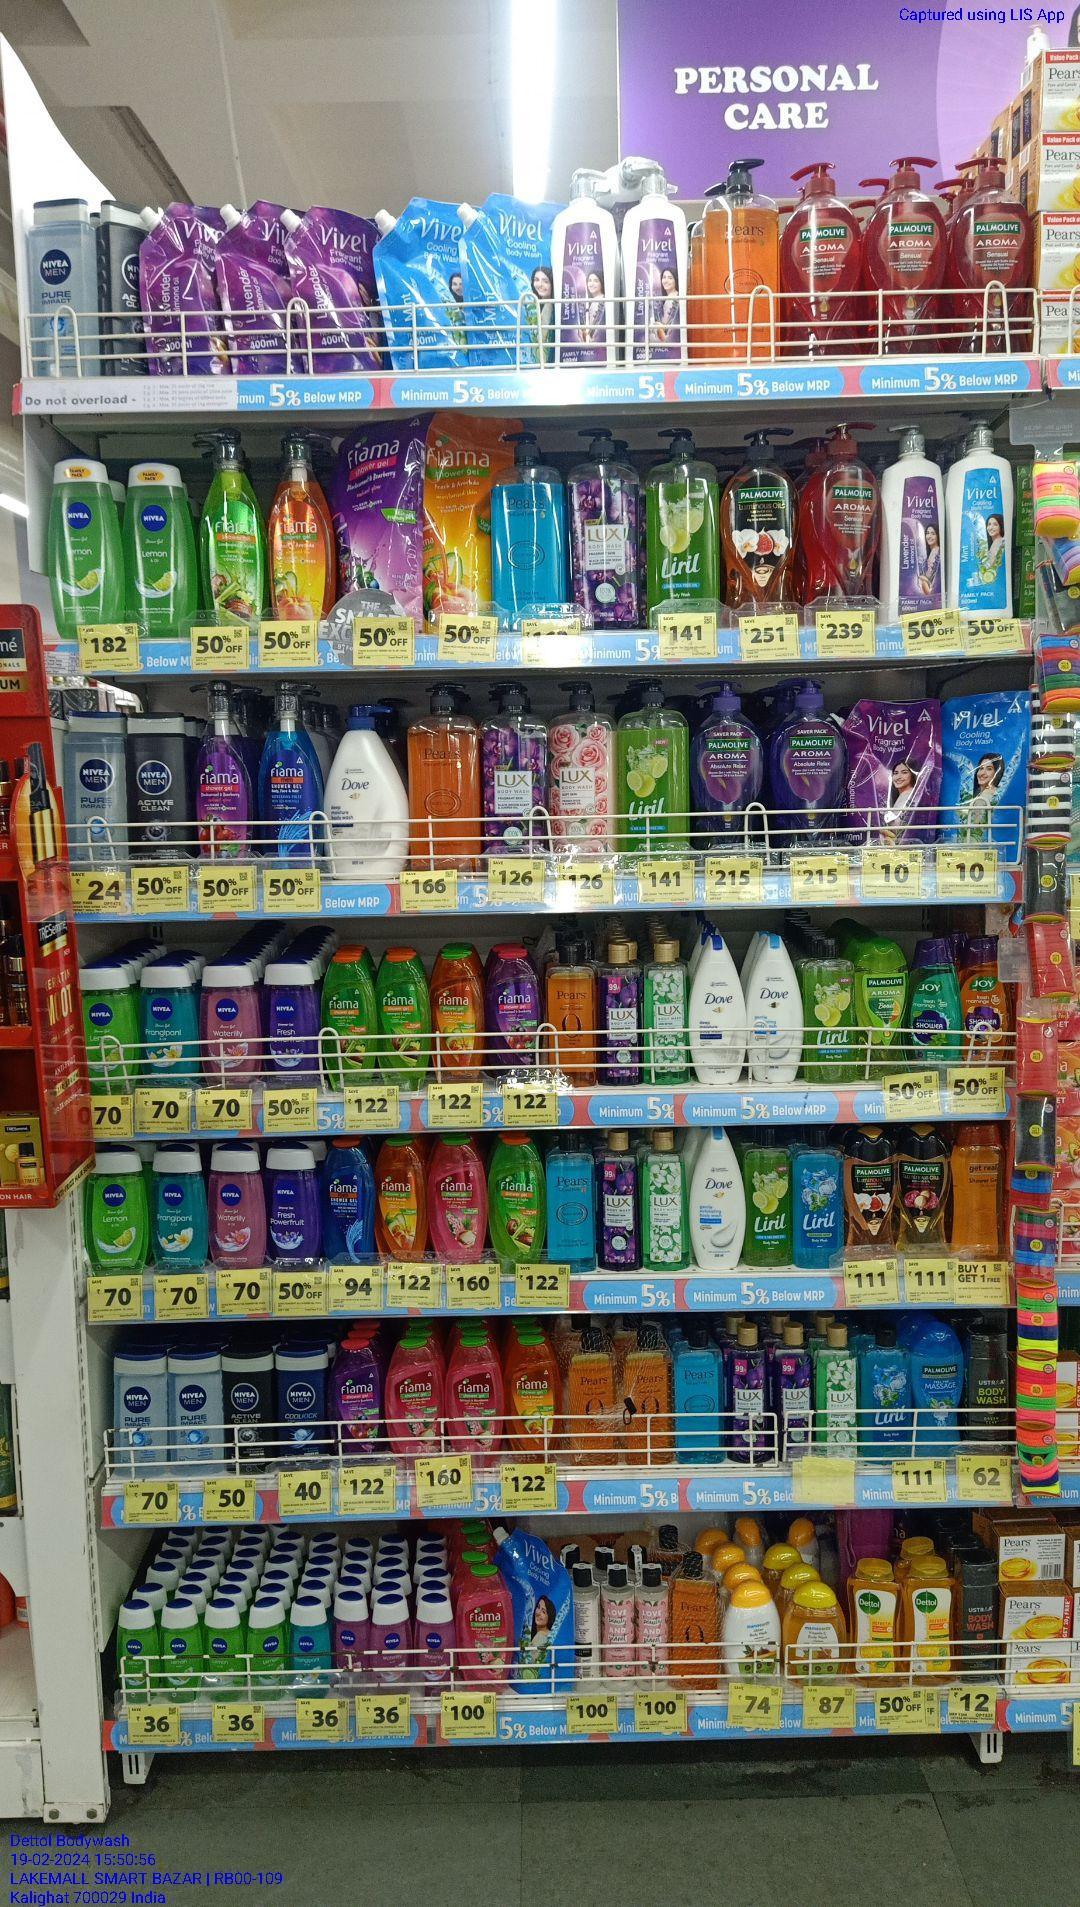Dettol_Bodywash_Refresh: (846, 1557, 901, 1690), (901, 1555, 956, 1686)
Dove_Deep_Moisture_Body_Wash_250ML: (687, 935, 747, 1086)
Dove_Gentle_Exfoliating_Body_Wash_250ML: (747, 934, 804, 1083), (689, 1126, 745, 1272)
Fiama_Shower_Gel_Lemongrass_and_Jojoba_250ML: (319, 952, 377, 1087), (488, 1134, 546, 1261), (377, 951, 431, 1084)
Fiama_Shower_Gel_Patchouli_and_Macadamia_250ML: (427, 1134, 488, 1263), (457, 1564, 514, 1691), (382, 1339, 444, 1456), (445, 1335, 505, 1453)
Fiama_Shower_Gel_Peach_and_Avocado_250ML: (507, 1335, 562, 1463), (431, 948, 483, 1079), (376, 1137, 425, 1263)
Joy_Shower_Gel_Mint_and_Eucalyptus_250ML: (910, 935, 962, 1073)
Liril_Cooling_Mint_Body_Wash_250ML: (792, 1126, 843, 1272), (857, 1322, 911, 1459)
Liril_Lime_and_Tea_Tree_Oil_Body_Wash_250ML: (802, 935, 856, 1082), (746, 1124, 792, 1268)
Lux_Black_Orchid_Scent_and_Juniper_Oil_Body_Wash_245ML: (594, 942, 641, 1084), (725, 1324, 771, 1464), (597, 1129, 641, 1272), (771, 1322, 813, 1460)
Lux_Body_Wash_Skin_Detox_Freesia_Scent_and_Alove_Vera_245ML: (641, 1128, 689, 1270), (644, 940, 687, 1086), (814, 1322, 859, 1456)
Nivea_Shower_Gel_Frangipani_and_Oil_250ML: (149, 1141, 209, 1273), (139, 960, 200, 1086)
Nivea_Shower_Gel_Fresh_Powerfruit_250ML: (267, 1141, 322, 1270), (262, 959, 319, 1081)
Nivea_Shower_Gel_Lemon_and_Oil_250ML: (46, 452, 126, 639), (124, 457, 199, 639), (84, 1143, 149, 1274)
Nivea_Shower_Gel_Waterlily_and_Oil_250ML: (199, 960, 263, 1086), (211, 1141, 267, 1269)
Palmolive_Aroma_Moments_Feel_The_Massage_Shower_Gel_250ML: (911, 1319, 963, 1456)
Palmolive_Aroma_Morning_Tonic_Shower_Gel_250ML: (857, 935, 911, 1083)
Palmolive_Luminous_Oils_Invigorating_Macadamia_Oil_With_Peony_250ML: (898, 1121, 950, 1250)
Palmolive_Luminous_Oils_With_White_Orchid_Shower_Gel_250ML: (843, 1122, 898, 1259)
Pears_Pure_Glycerin_and_Mint_Extracts_Body_Wash_250ML: (672, 1325, 728, 1460), (545, 1132, 597, 1273)
